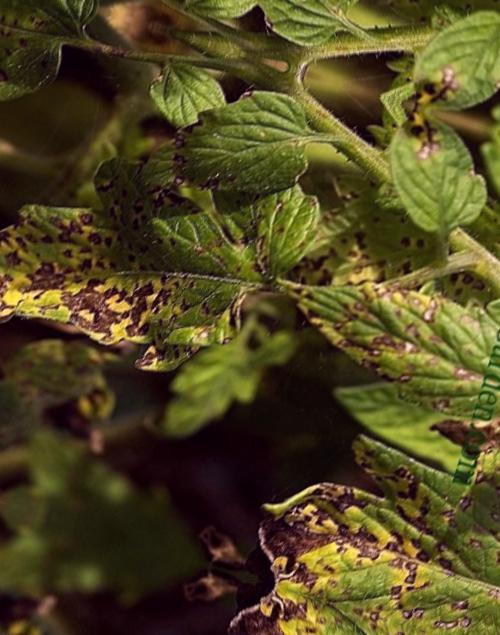Tomato Septoria leaf spot: (0, 144, 284, 414), (239, 408, 500, 635), (250, 245, 500, 432)
